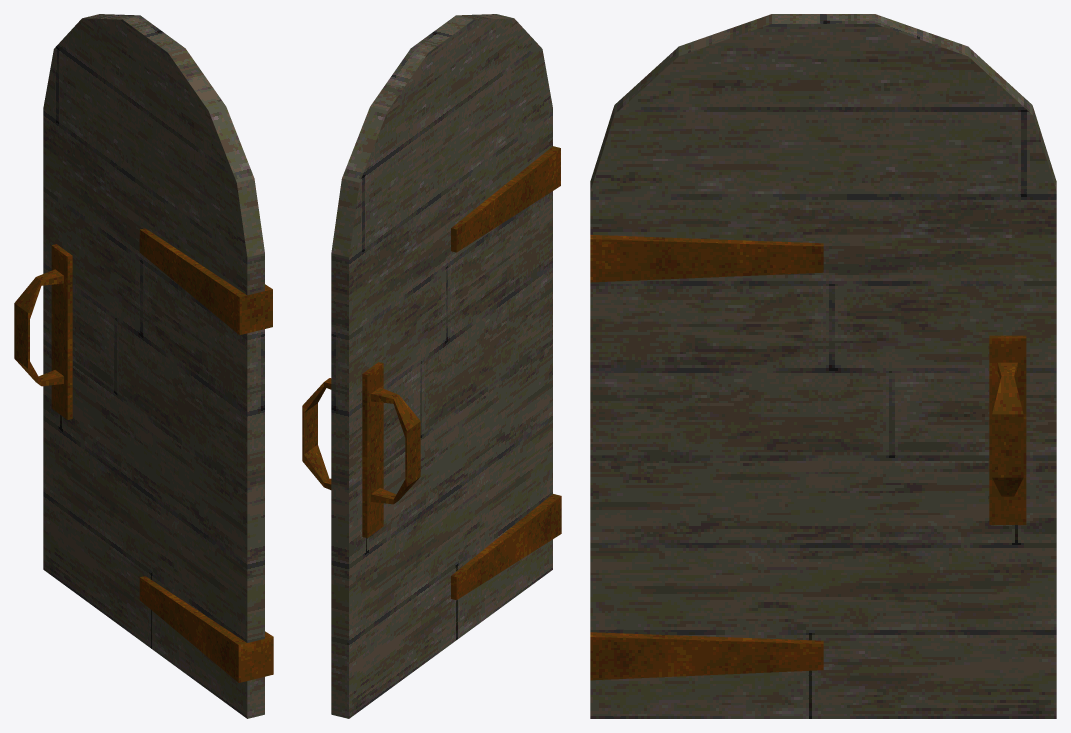
File: door_001.gltf
3 views of the same model, side by side, from view 1: azimuth 30°, elevation 25°; view 2: azimuth 150°, elevation 25°; view 3: azimuth 270°, elevation 25° (orthographic). The views are drawn at different scales.
Parts seen in each view (by area): view 1: door.001; view 2: door.001; view 3: door.001.
Boxes of the visible parts, <box> form: door.001: <box>14,14,273,718</box>; door.001: <box>302,14,561,718</box>; door.001: <box>590,14,1056,718</box>.
Bounding box in the file's own units: 0.3747 × 2.08 × 1.26.
1 material, 1 textured.
